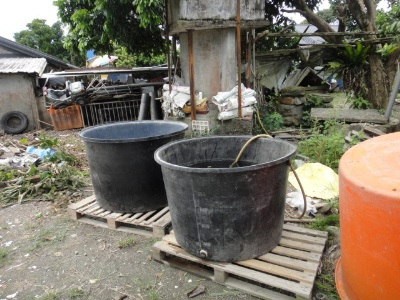bucket: (156, 133, 300, 263), (79, 118, 189, 213)
tire: (1, 109, 29, 135)
